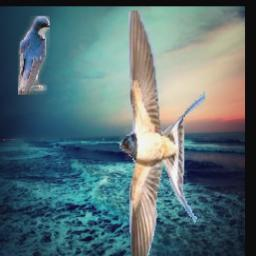Swallow: (120, 11, 205, 256), (18, 17, 50, 96)
